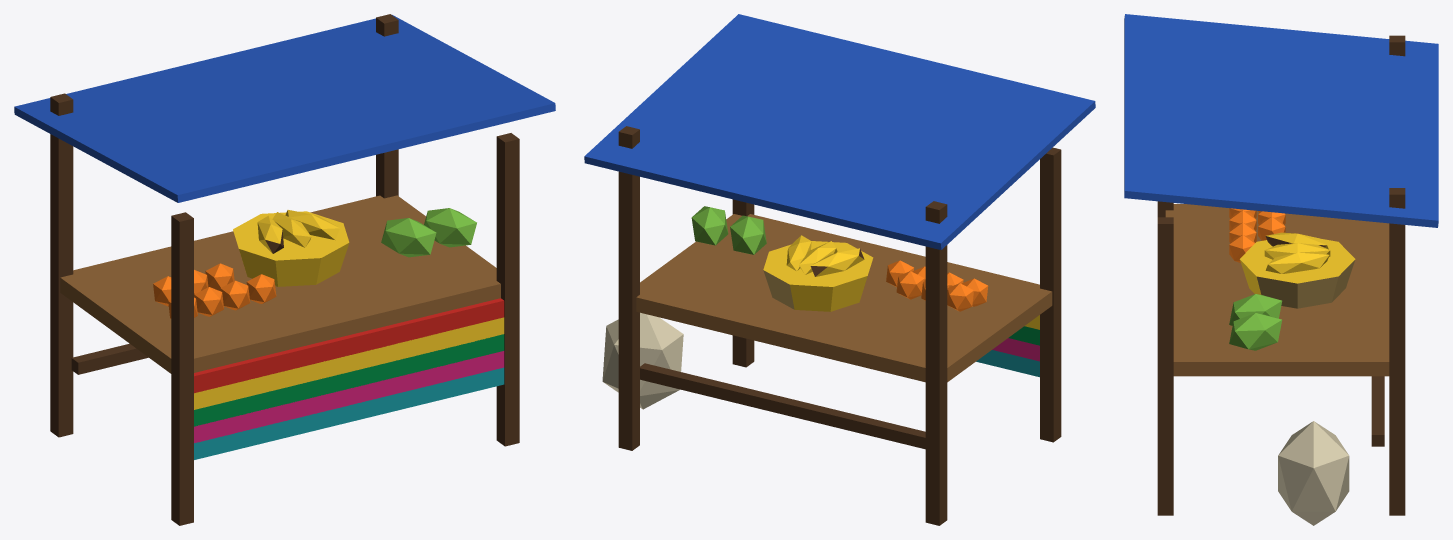
File: Puesto de mercado.fbx
The picture shows the model from 3 angles, left to right: view 1: azimuth 30°, elevation 25°; view 2: azimuth 150°, elevation 25°; view 3: azimuth 270°, elevation 25°; orthographic projection. The views are drawn at different scales.
Visible parts, largest first — view 1: Puesto de mercado; view 2: Puesto de mercado; view 3: Puesto de mercado.
Boxes of the visible parts, bbox=[...] form: Puesto de mercado: bbox=[14, 14, 555, 525]; Puesto de mercado: bbox=[584, 14, 1095, 525]; Puesto de mercado: bbox=[1124, 14, 1438, 525].
Size of the model in its own units: 1.44 by 1.14 by 0.9772.
